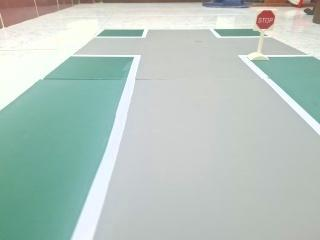stop: (253, 7, 279, 33)
